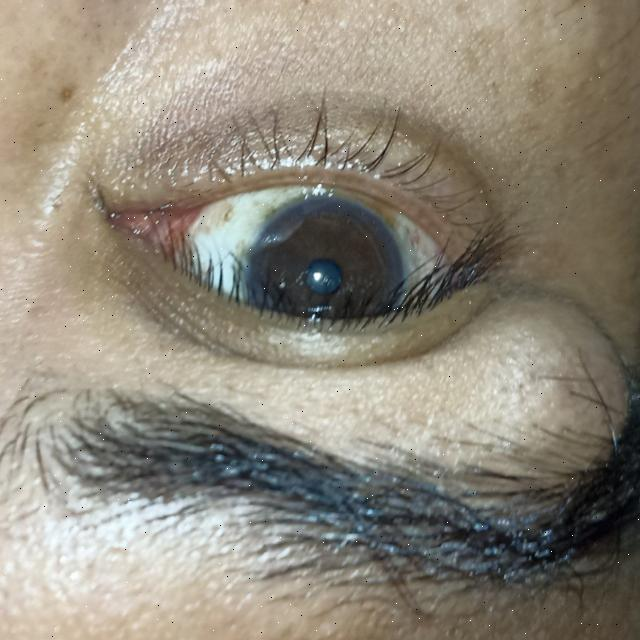Normal: (252, 199, 404, 352)
